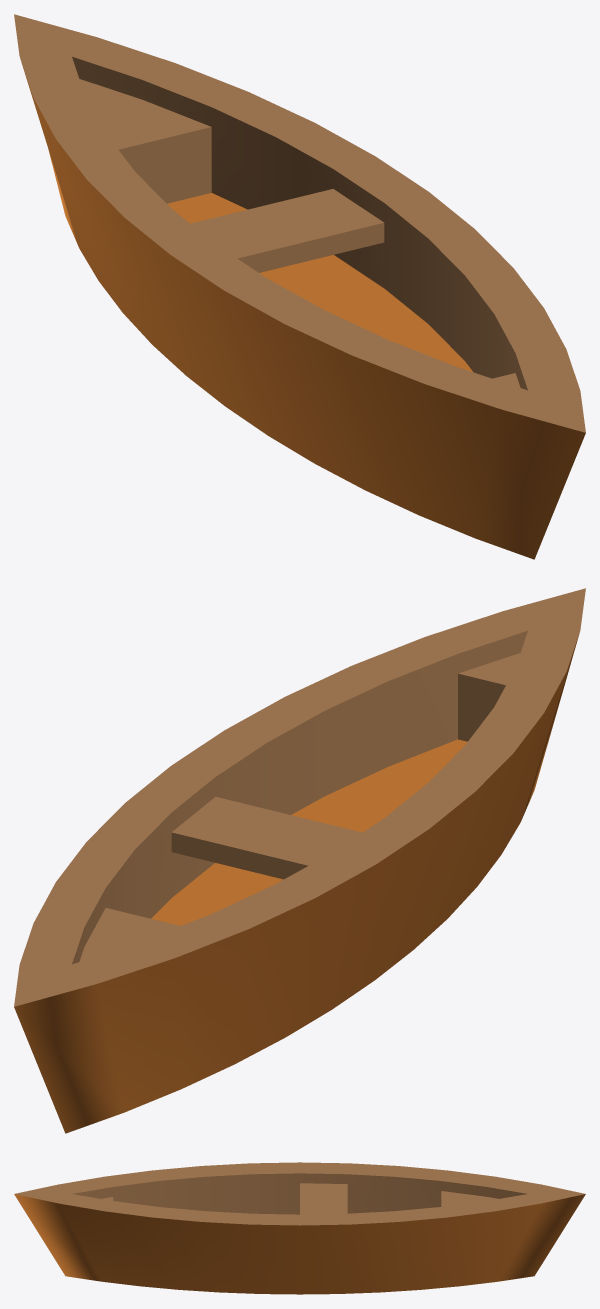
The model's file is canoe.glb.
The picture shows the model from 3 angles, top to bottom: view 1: azimuth 30°, elevation 25°; view 2: azimuth 150°, elevation 25°; view 3: azimuth 270°, elevation 25°; orthographic projection. The views are drawn at different scales.
Visible parts, largest first — view 1: canoe; view 2: canoe; view 3: canoe.
Part boxes in pixels (x1,y1,x2,y2): canoe: (14,14,585,559); canoe: (14,588,585,1133); canoe: (14,1162,585,1294).
Size of the model in its own units: 0.3 by 0.1825 by 1.15.
